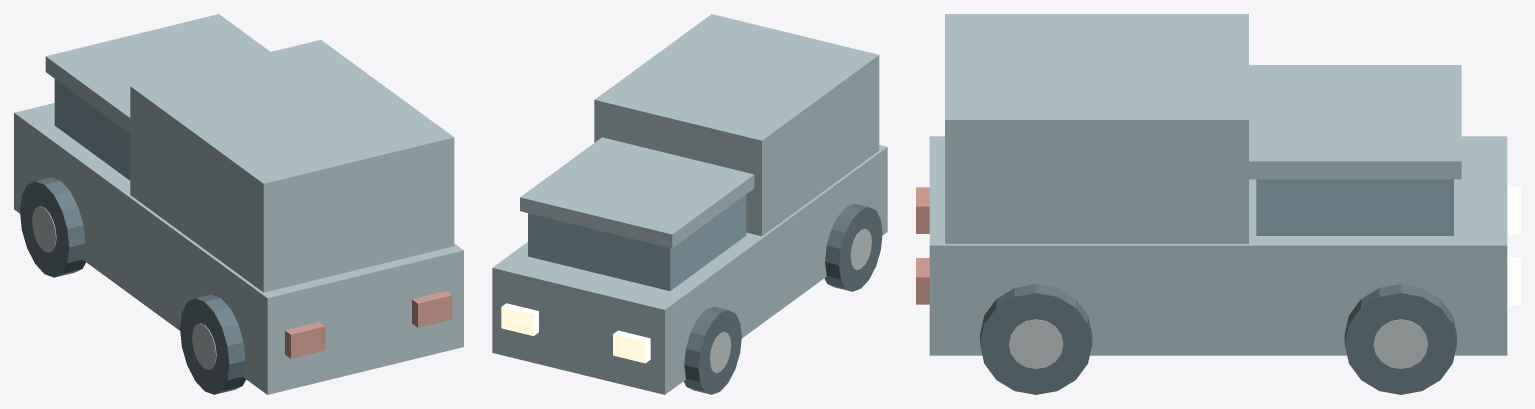
File: remaster_vehicle_2.glb
3 renders of one model, left to right at view 1: azimuth 30°, elevation 25°; view 2: azimuth 150°, elevation 25°; view 3: azimuth 270°, elevation 25°, orthographic. The views are drawn at different scales.
Visible parts, largest first — view 1: remaster_vehicle_2 blue, remaster_vehicle_2 dark, remaster_vehicle_2 glass, remaster_vehicle_2 red, remaster_vehicle_2 metal; view 2: remaster_vehicle_2 blue, remaster_vehicle_2 glass, remaster_vehicle_2 dark, remaster_vehicle_2 warm, remaster_vehicle_2 metal; view 3: remaster_vehicle_2 blue, remaster_vehicle_2 dark, remaster_vehicle_2 glass, remaster_vehicle_2 metal, remaster_vehicle_2 warm, remaster_vehicle_2 red.
Part boxes in pixels (<box>): remaster_vehicle_2 blue: <box>14,14,463,394</box>; remaster_vehicle_2 dark: <box>20,177,245,394</box>; remaster_vehicle_2 glass: <box>54,79,130,180</box>; remaster_vehicle_2 red: <box>285,291,452,358</box>; remaster_vehicle_2 metal: <box>32,206,216,370</box>; remaster_vehicle_2 blue: <box>492,14,887,394</box>; remaster_vehicle_2 glass: <box>528,194,746,290</box>; remaster_vehicle_2 dark: <box>683,203,882,394</box>; remaster_vehicle_2 warm: <box>501,303,650,363</box>; remaster_vehicle_2 metal: <box>709,229,871,373</box>; remaster_vehicle_2 blue: <box>929,14,1507,355</box>; remaster_vehicle_2 dark: <box>980,284,1456,394</box>; remaster_vehicle_2 glass: <box>1256,179,1453,235</box>; remaster_vehicle_2 metal: <box>1008,319,1428,368</box>; remaster_vehicle_2 warm: <box>1507,186,1520,305</box>; remaster_vehicle_2 red: <box>916,187,929,304</box>.
Bounding box in the file's own units: 1.99 × 1.92 × 3.98.
